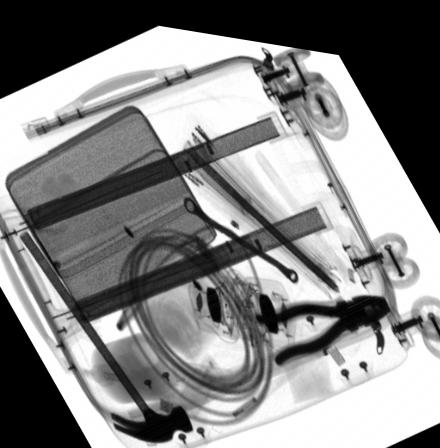Hammer: (17, 228, 193, 435)
Pliers: (253, 281, 391, 356)
Wrench: (181, 191, 297, 271)
